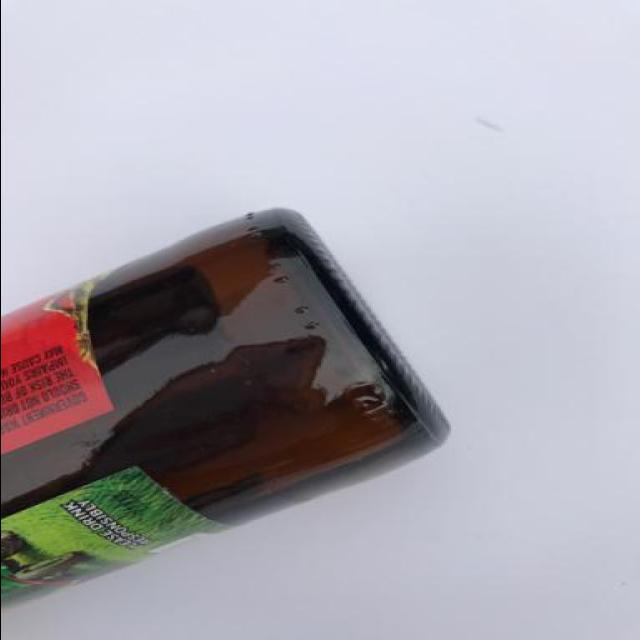litter: (3, 203, 455, 612)
